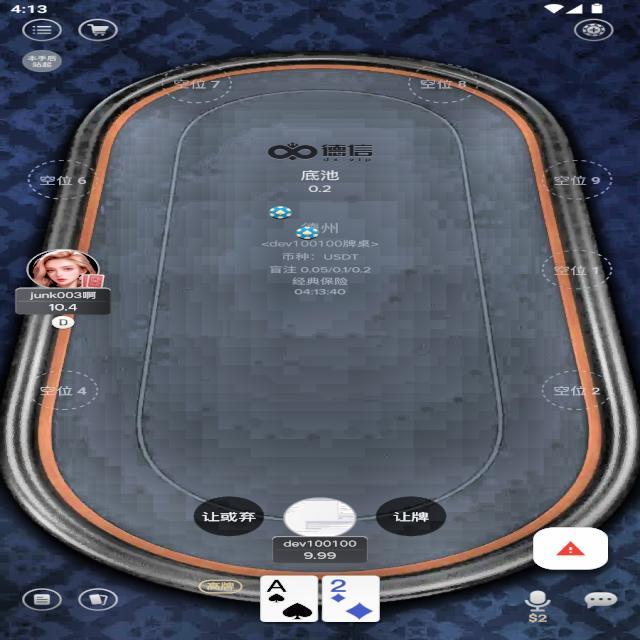2f: (327, 578, 350, 594)
As: (265, 577, 289, 594)
